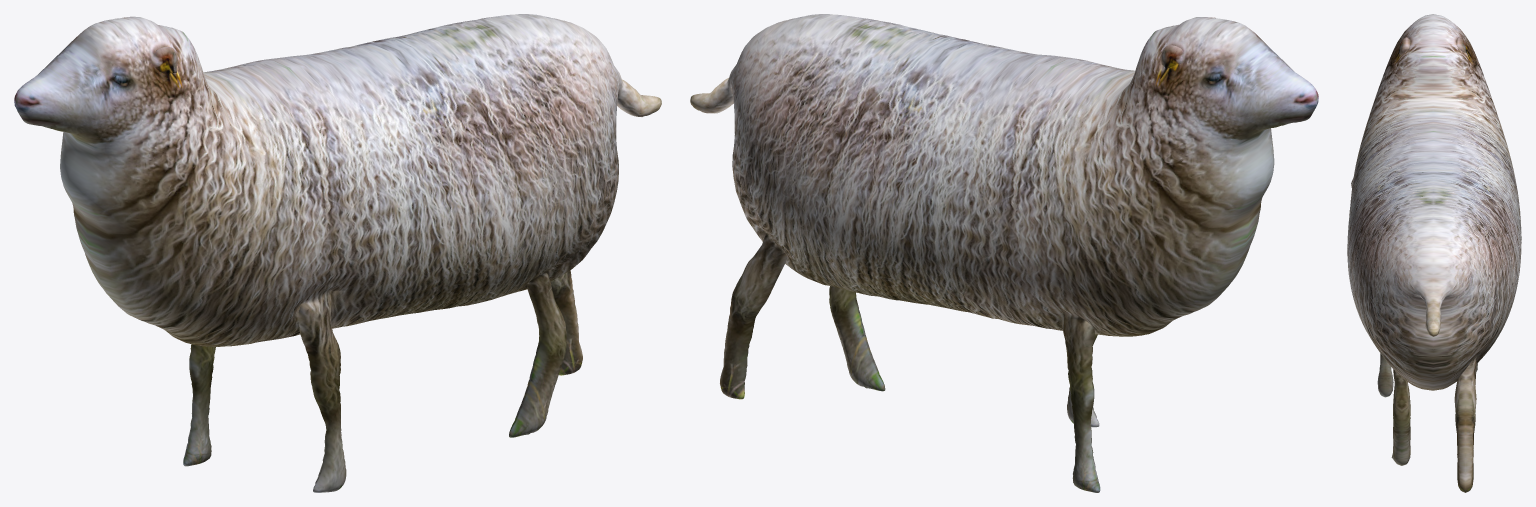
The model's file is sheep_anim.glb.
The picture shows the model from 3 angles, left to right: view 1: azimuth 30°, elevation 25°; view 2: azimuth 150°, elevation 25°; view 3: azimuth 270°, elevation 25°; orthographic projection. The views are drawn at different scales.
Size of the model in its own units: 7.04 by 5.08 by 2.49.
Materials: 1 (1 with a texture image).
